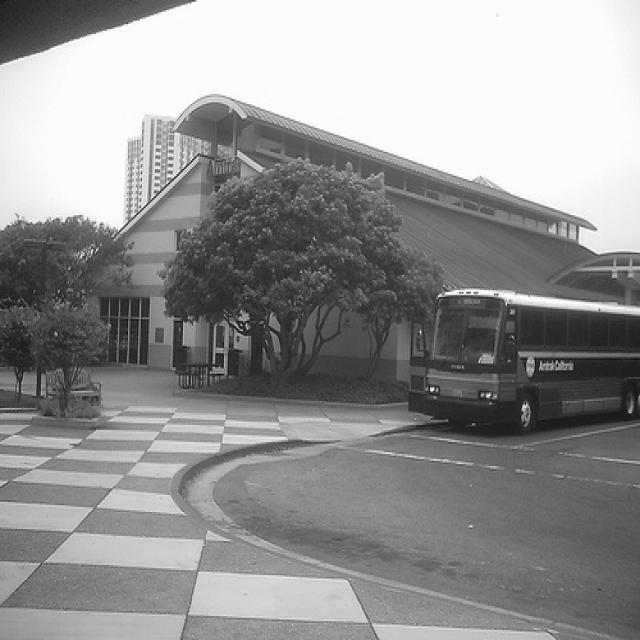bus: (414, 282, 638, 437)
